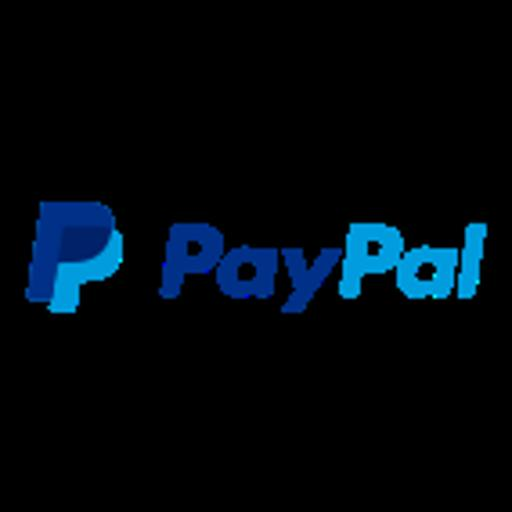PayPal: (0, 173, 512, 338)
